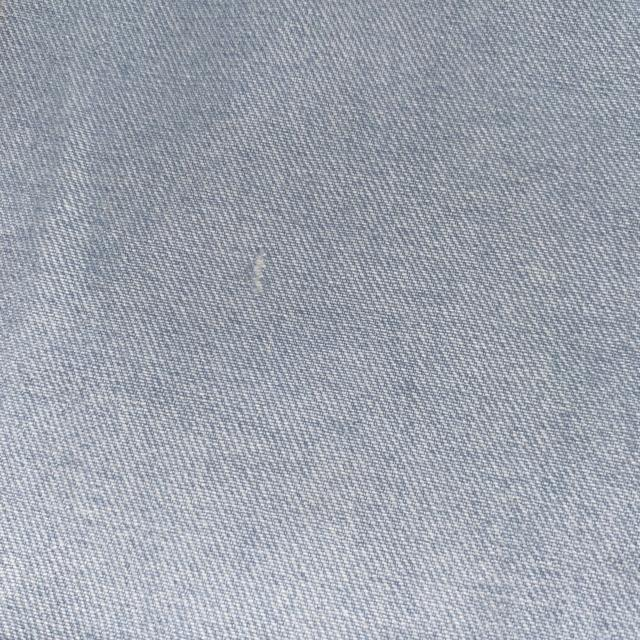Knot: (251, 246, 267, 294)
